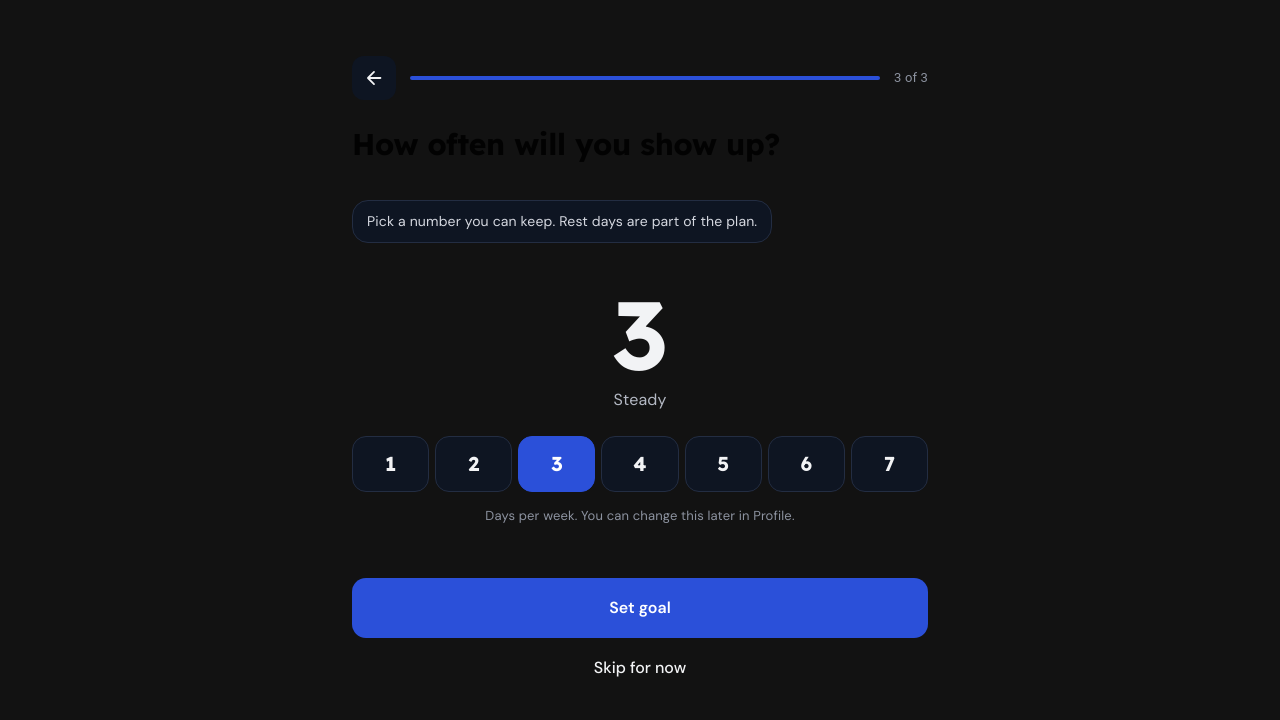
Scenario: the sheet › "Set a goal" closes the sheet and stays on the goal screen, with nothing saved and nobody skipped
Click the button "Skip for now" at [640, 668], box [352, 644, 928, 692]
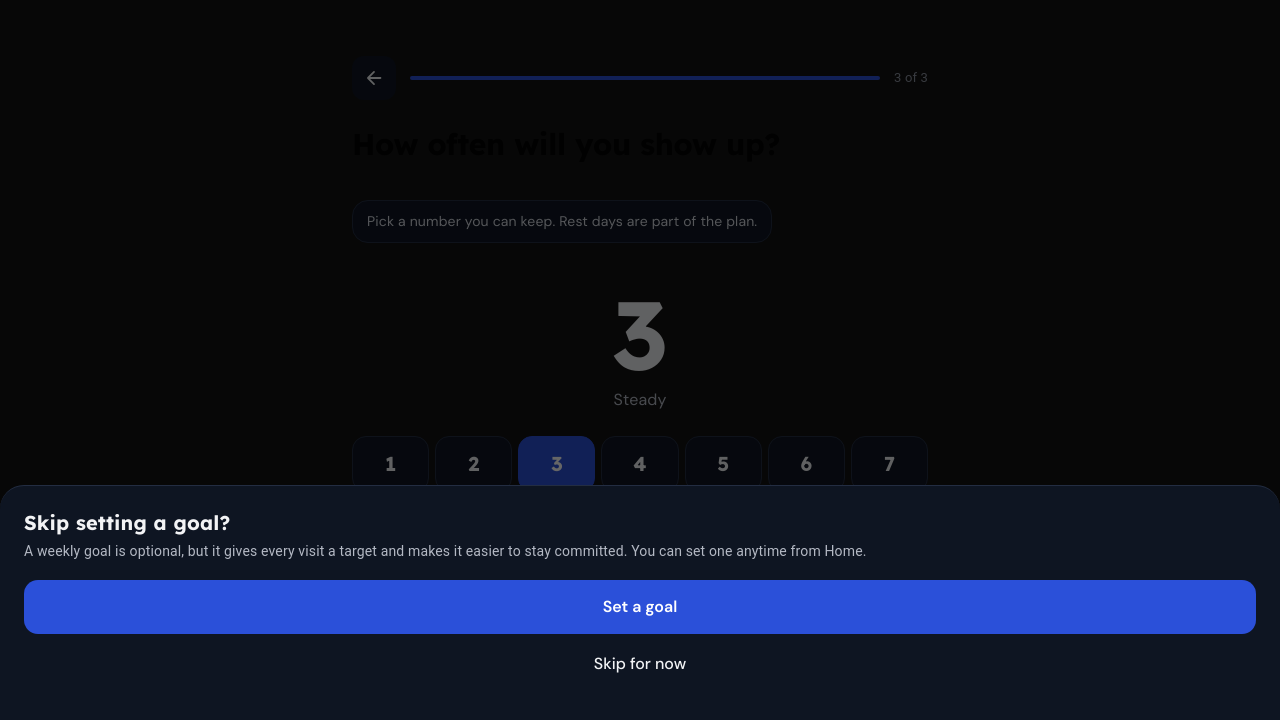
Click the button "Set a goal" at [640, 607], box [24, 580, 1256, 634]
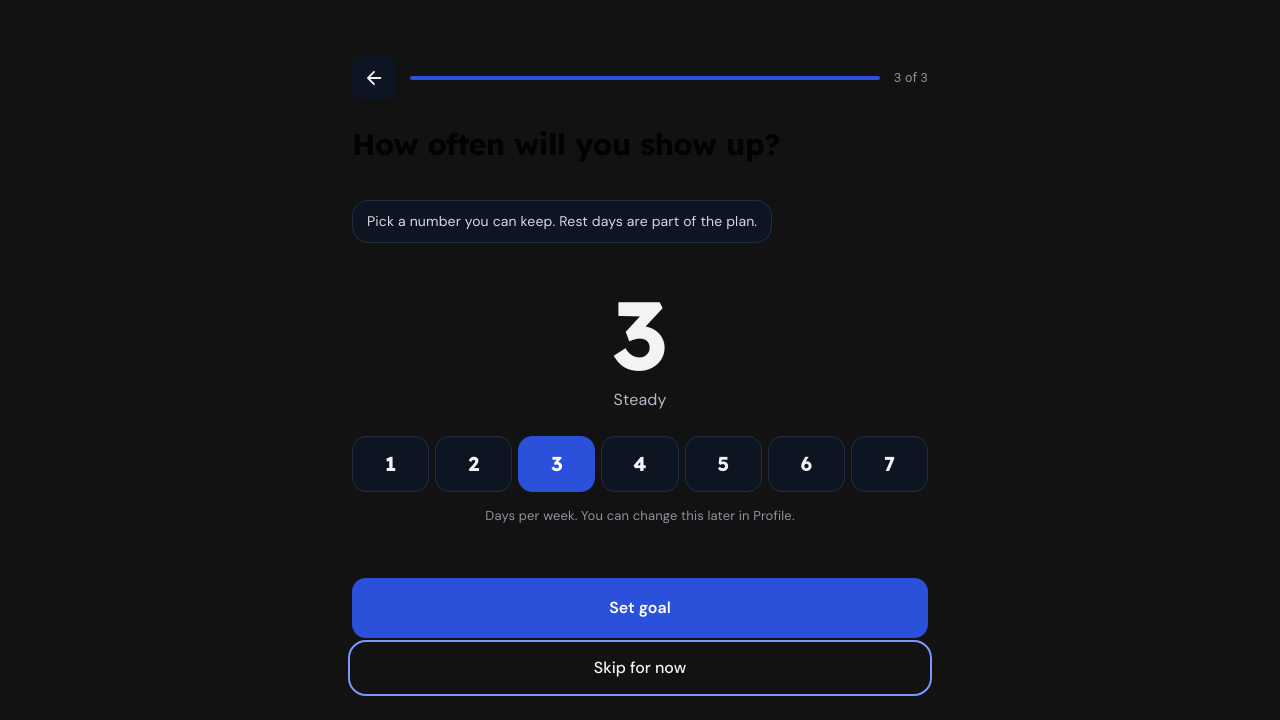
Check: the heading "Skip setting a goal?" is gone
